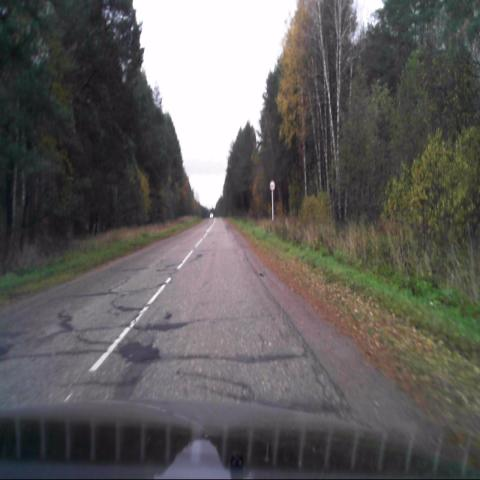3_20: (268, 180, 276, 191)
